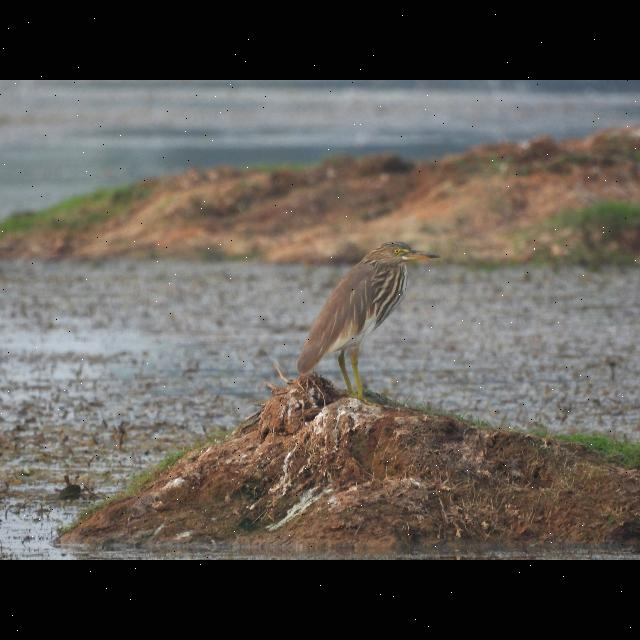heron: (289, 232, 451, 408)
